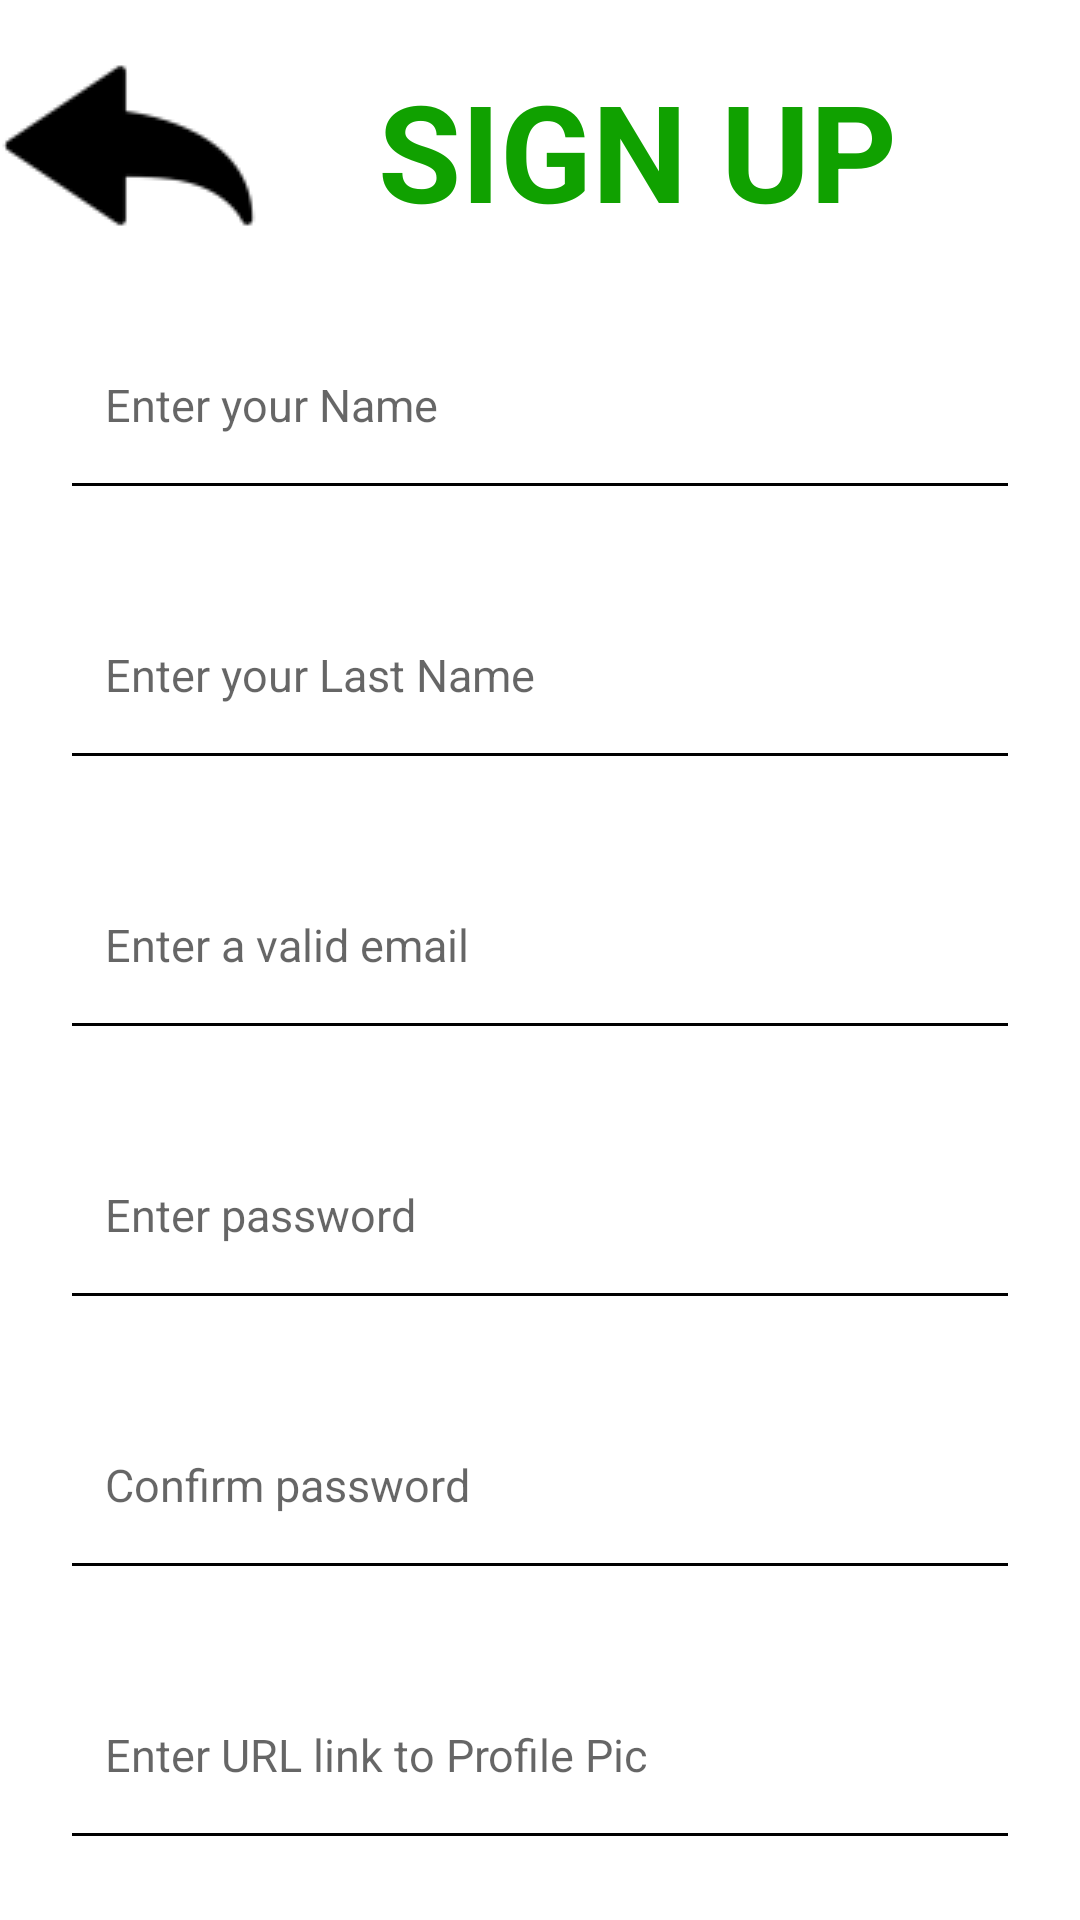

Where icons sit on this 1080 × 1920 app screen, as (x1, y1, x2, y2):
back arrow image: (4, 65, 255, 226)
